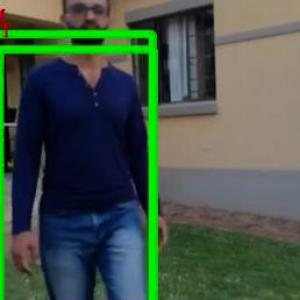follow: (30, 0, 150, 299)
